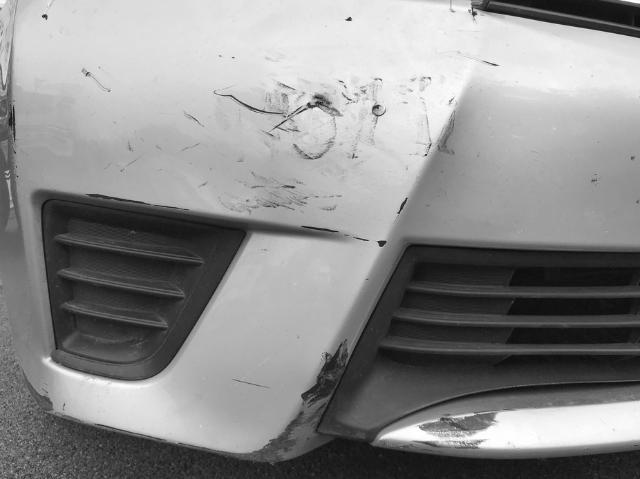Bumper: (180, 30, 516, 247)
